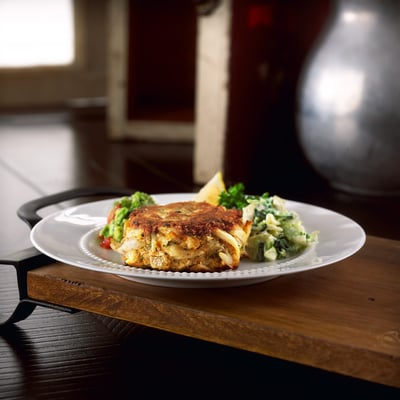curry: (218, 179, 316, 261), (242, 192, 320, 262), (99, 191, 158, 246), (217, 182, 250, 211)
